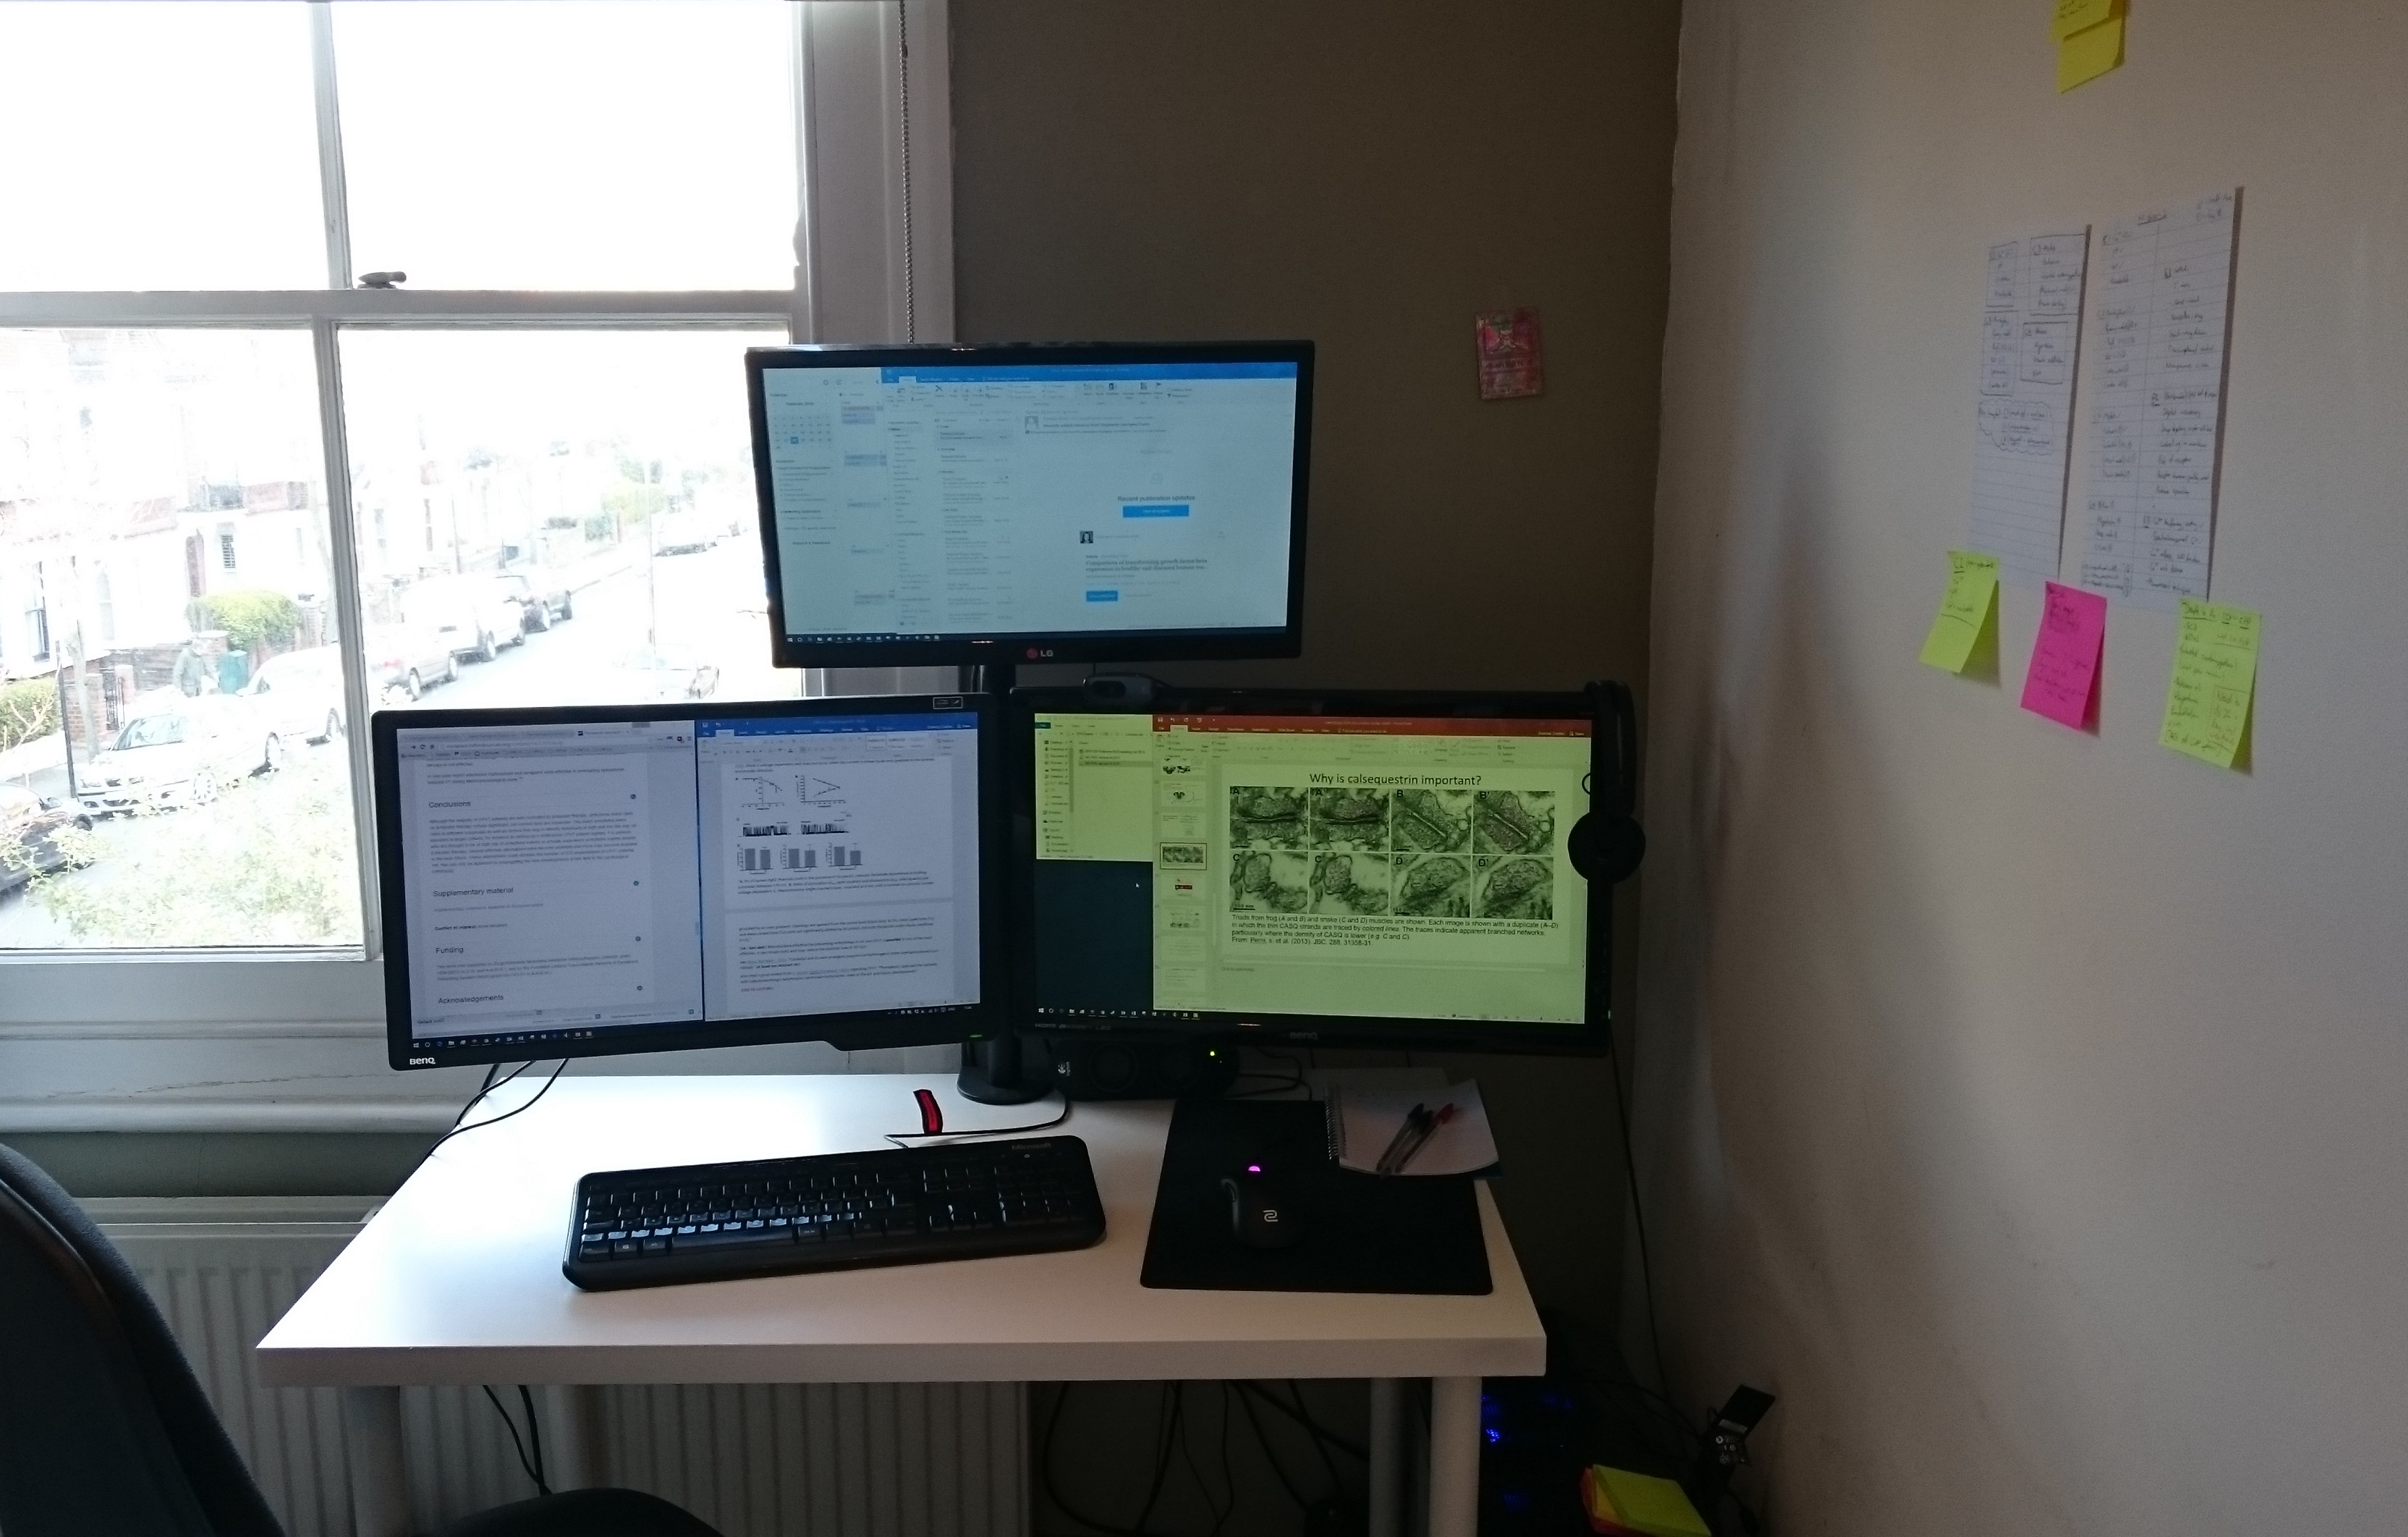Chair (Generic): (0, 1125, 776, 1530)
Desk (Generic): (272, 1074, 1553, 1367)
External Webcam: (1072, 663, 1167, 718)
Headphones: (1564, 674, 1650, 884)
Keyboard (Generic): (565, 1128, 1109, 1284)
Monitor (Landscape): (1007, 705, 1609, 1065), (376, 716, 1000, 1037), (746, 347, 1304, 656)
Monitor Arm: (942, 1046, 1062, 1128)
Mouse (Generic): (1222, 1156, 1320, 1255)
Mousepad (Gaming): (1153, 1083, 1492, 1293)
Notebook: (1323, 1072, 1501, 1177)
Post-it Note: (2157, 598, 2261, 783), (2020, 583, 2103, 733), (1918, 554, 2001, 677), (2045, 4, 2136, 72)
